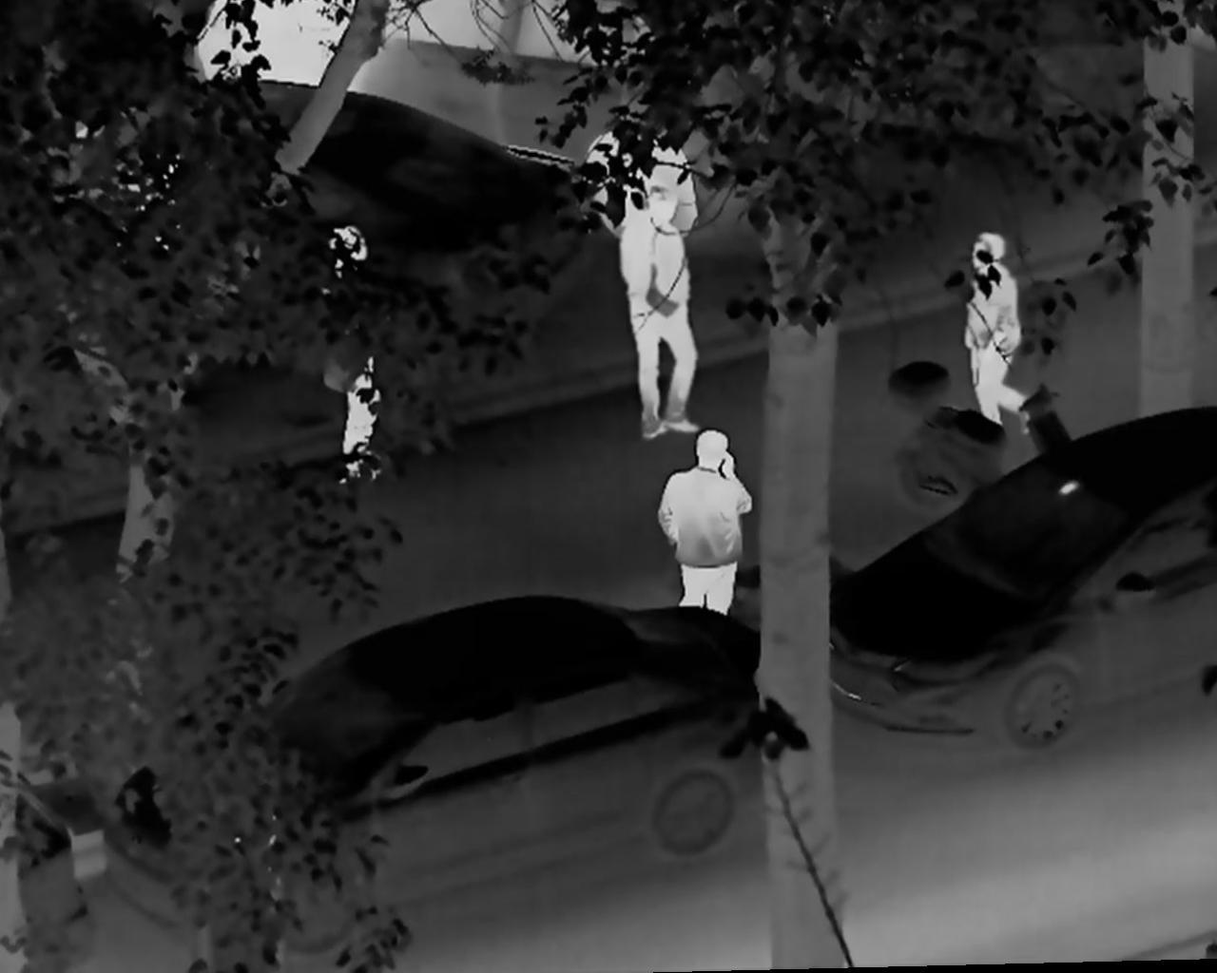person: (618, 187, 706, 441), (313, 225, 396, 491), (654, 426, 757, 619), (954, 228, 1034, 448), (99, 146, 202, 270)
